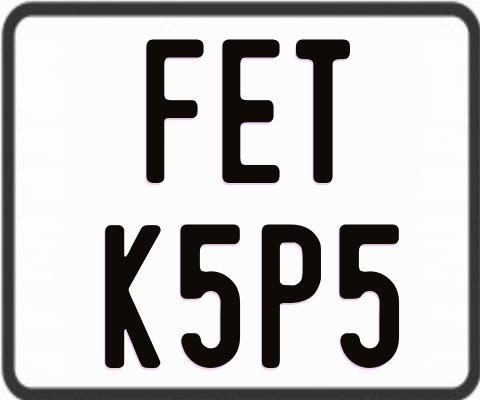5: (178, 222, 242, 372), (336, 222, 398, 372)
E: (219, 37, 277, 182)
F: (143, 38, 203, 188)
K: (105, 222, 163, 370)
P: (262, 224, 325, 368)
T: (295, 39, 349, 188)
